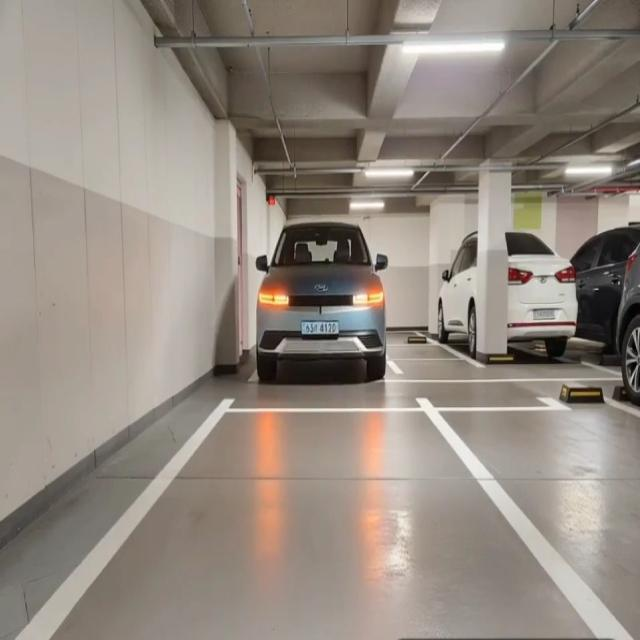car: (299, 318, 339, 341)
carev: (301, 321, 306, 338), (335, 322, 339, 337)
